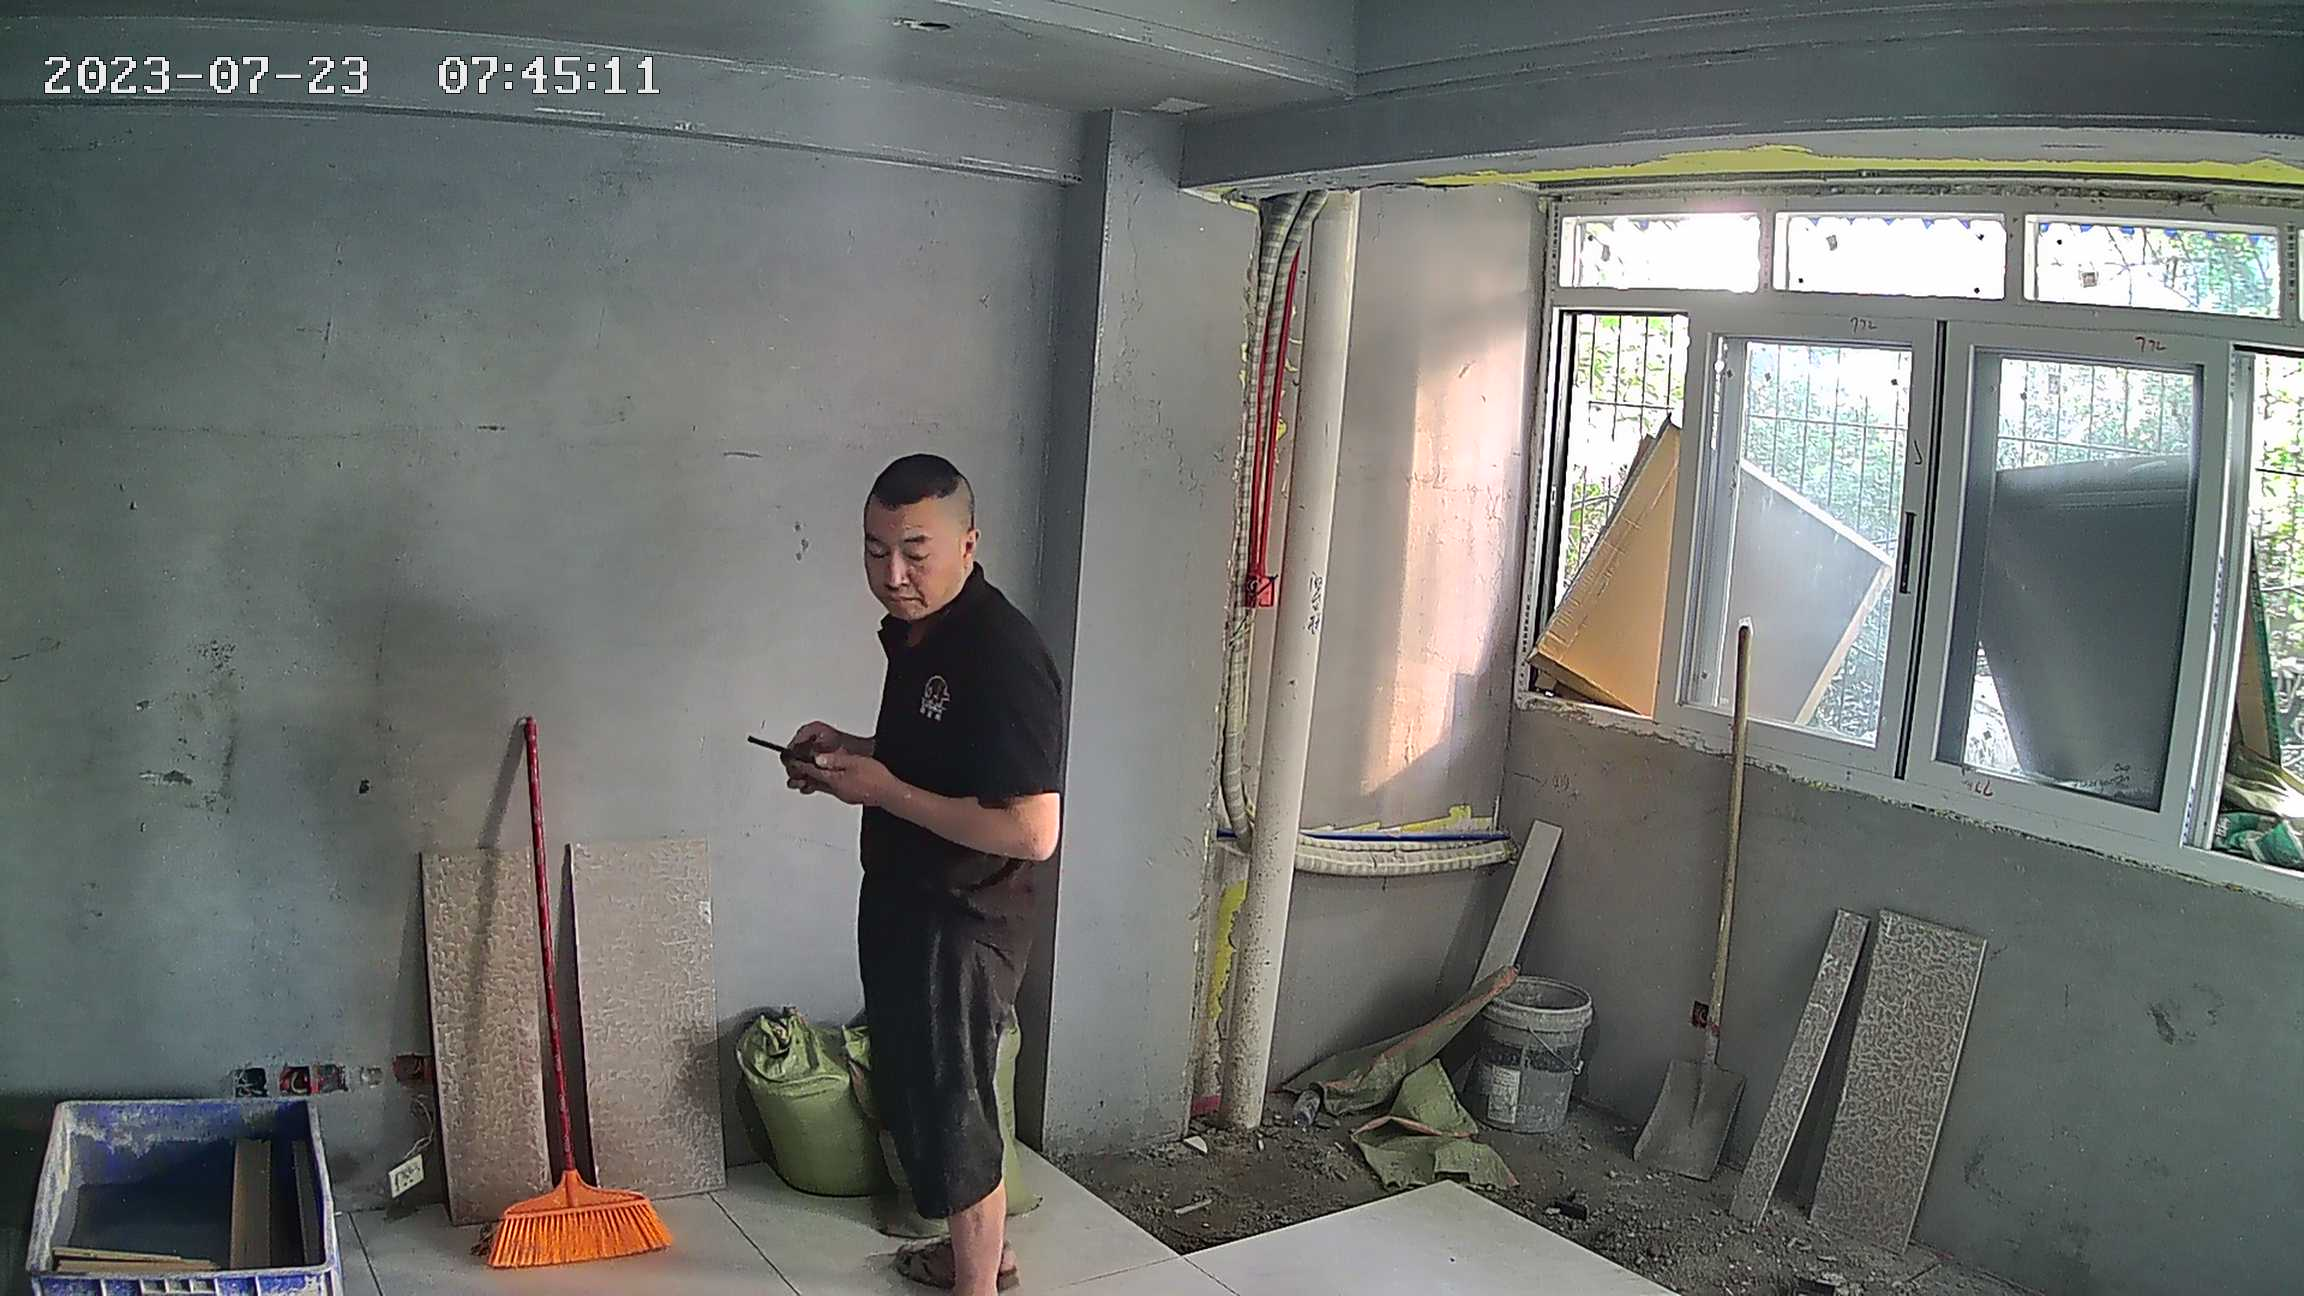people: (751, 464, 1092, 1295)
window: (1552, 209, 2304, 837)
